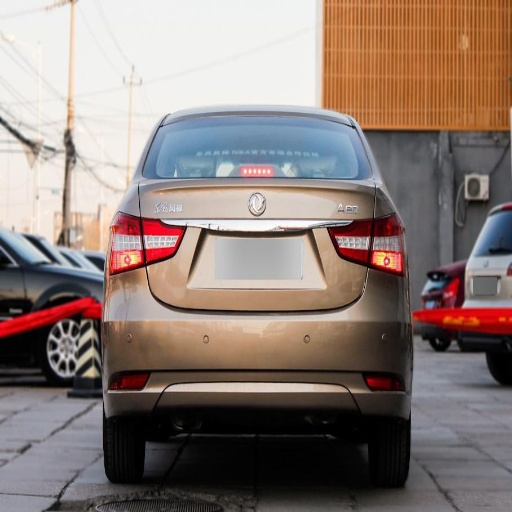back_bumper: (74, 268, 411, 432)
tailgate: (139, 167, 377, 311)
